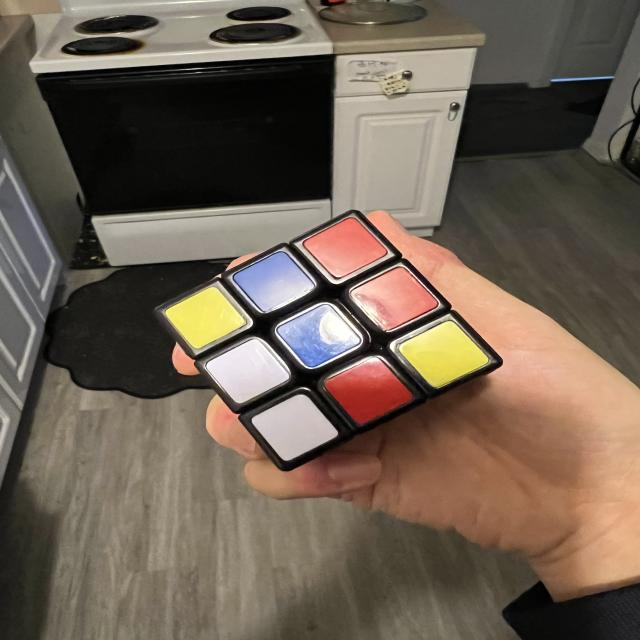blue: (273, 292, 365, 378), (229, 241, 320, 323)
center: (274, 295, 361, 376)
red: (321, 346, 415, 435), (346, 255, 441, 341), (301, 208, 389, 288)
white: (249, 385, 340, 469), (204, 330, 291, 413)
yellow: (396, 311, 490, 397), (163, 278, 246, 356)
